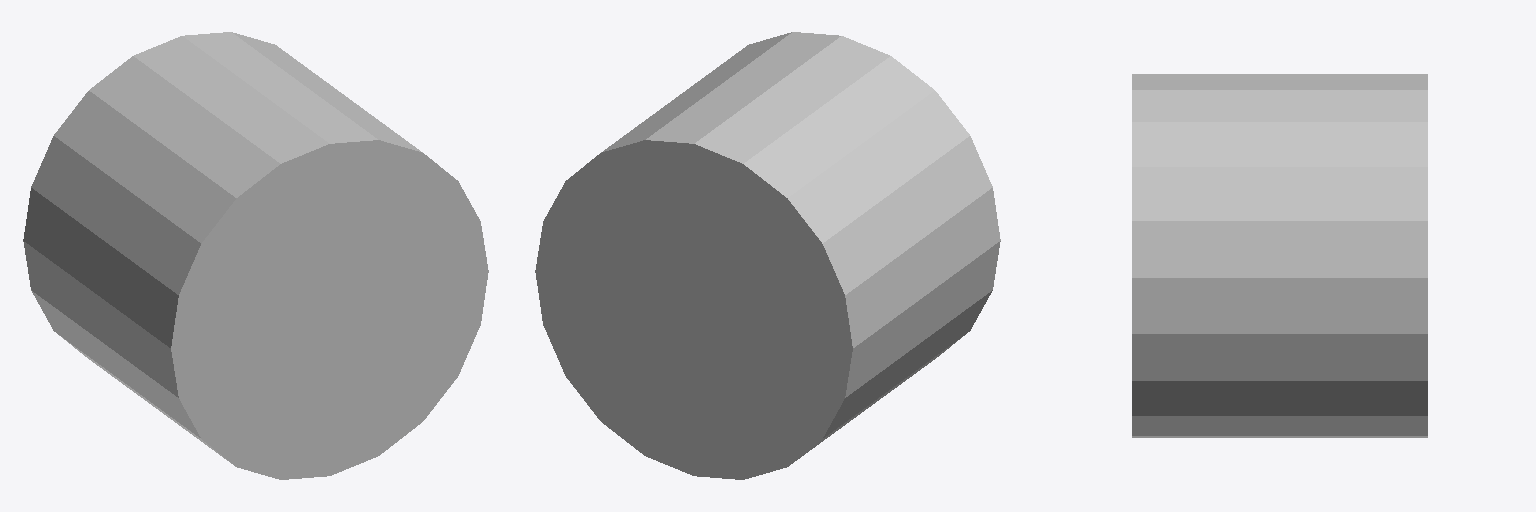
The model's file is Resaltado_Nervio_occipital_I_2.obj.
The picture shows the model from 3 angles: view 1: azimuth 30°, elevation 25°; view 2: azimuth 150°, elevation 25°; view 3: azimuth 270°, elevation 25°; orthographic projection.
Parts seen in each view (by area): view 1: polySurface49 polySurface27 Marcadores1; view 2: polySurface49 polySurface27 Marcadores1; view 3: polySurface49 polySurface27 Marcadores1.
Boxes of the visible parts, box(x1,y1,x2,y2) form: polySurface49 polySurface27 Marcadores1: box(23, 32, 488, 479); polySurface49 polySurface27 Marcadores1: box(535, 32, 1000, 479); polySurface49 polySurface27 Marcadores1: box(1132, 74, 1427, 437).
Size of the model in its own units: 0.0375 by 0.0375 by 0.0302.